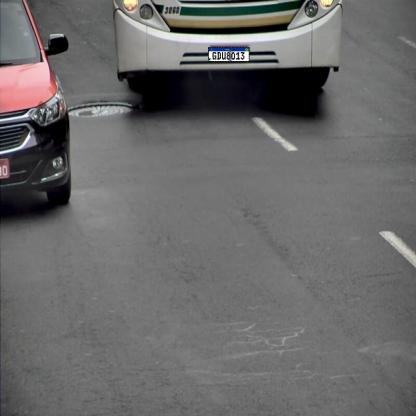PlacaM: (208, 47, 250, 62)
